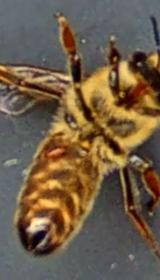varroa_mite: (41, 133, 74, 170)
